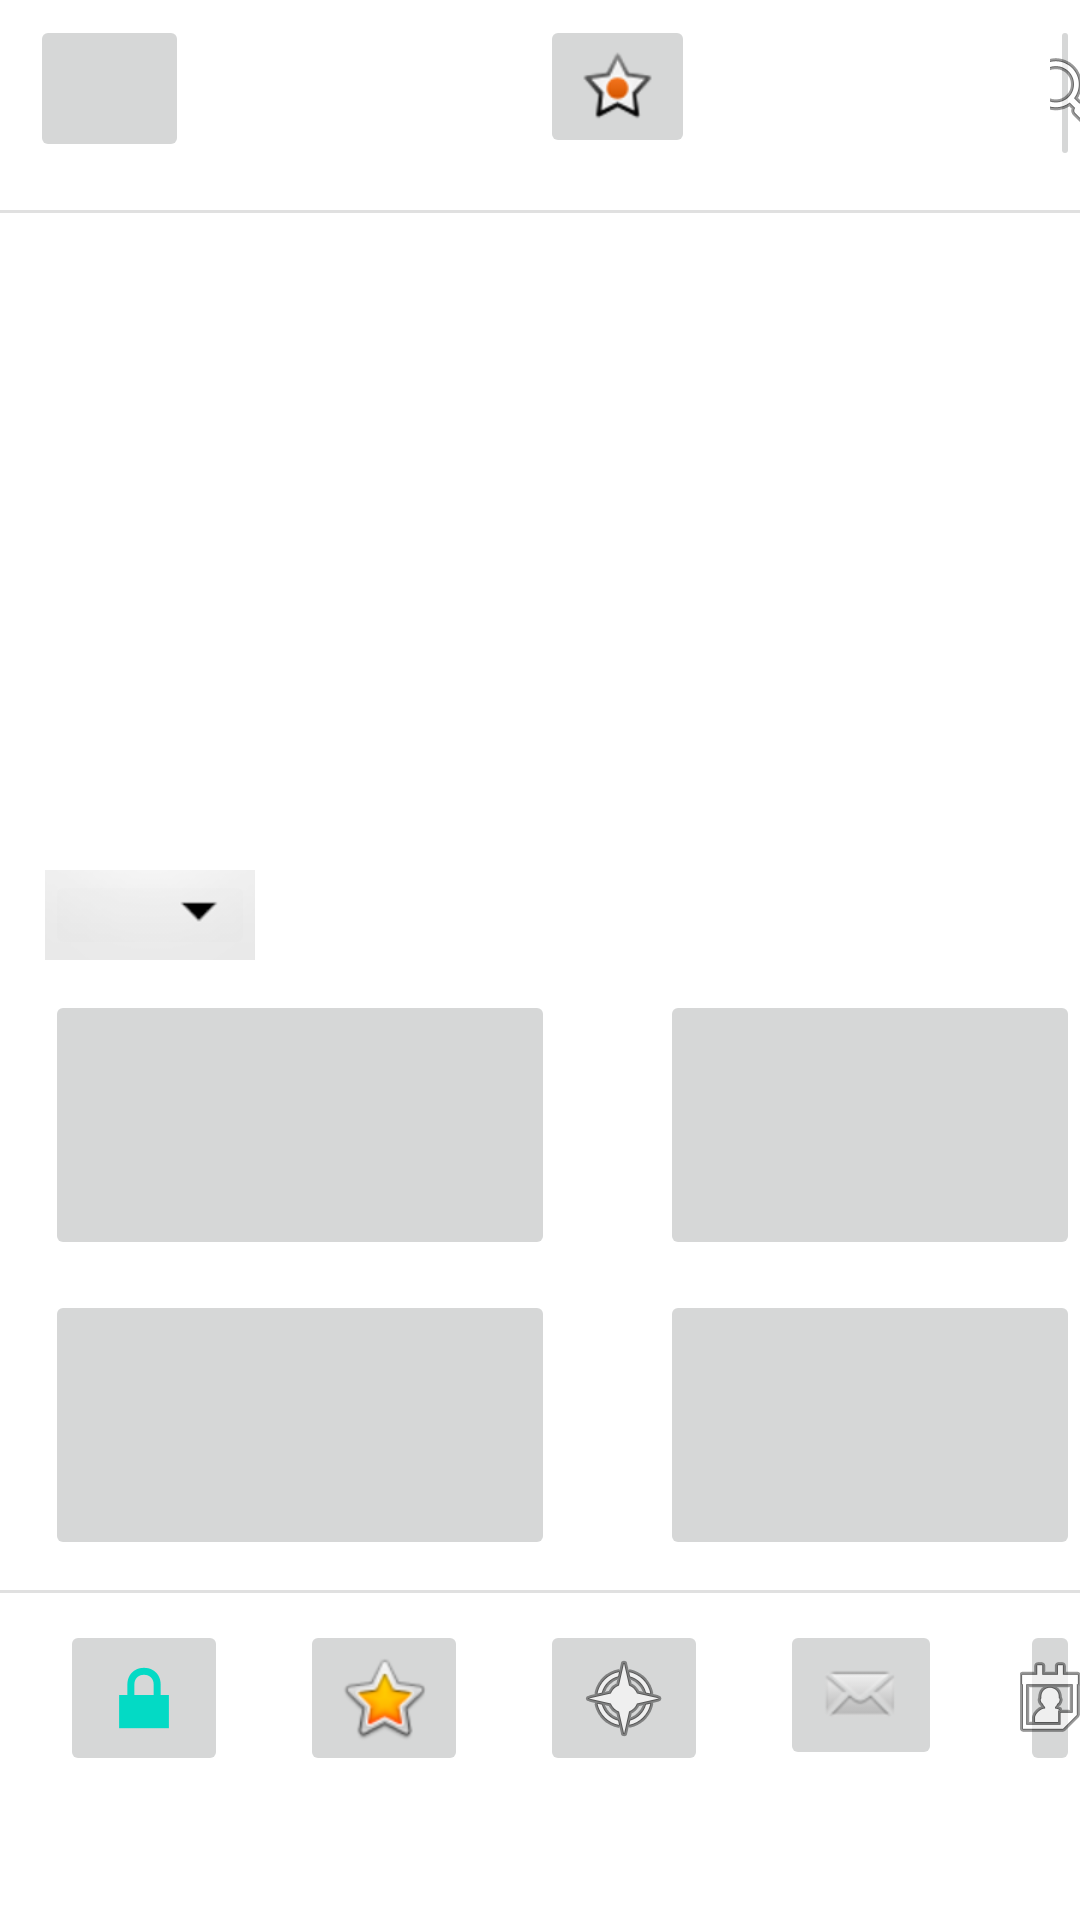

Icons on this 1080px x 1920px Android screen, each with the point to tap as (x,y):
calendar: (1050,1698)
compass: (624,1698)
dropdown: (199,911)
lock: (144,1698)
star on: (617,86), (384,1698)
sym action email: (861,1695)
